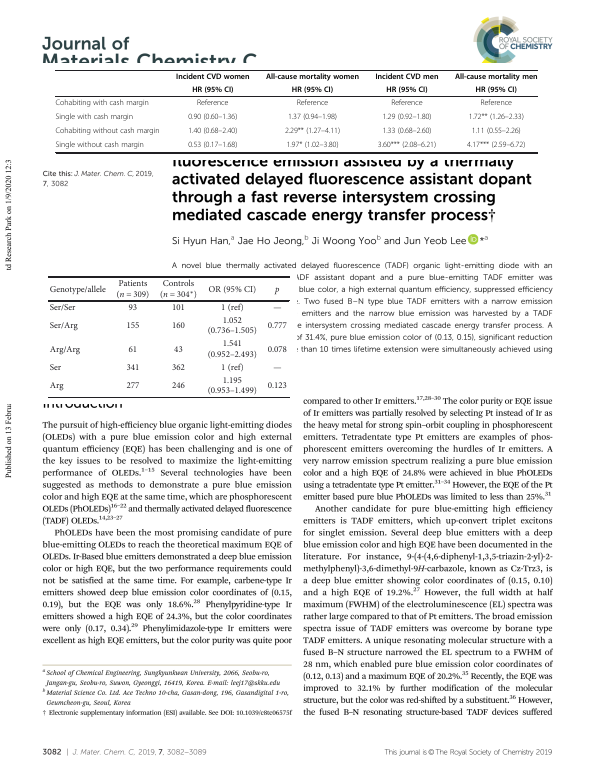borderless: (54, 68, 537, 152), (48, 275, 290, 398)
cell: (206, 316, 257, 337), (206, 339, 257, 360), (206, 376, 257, 397), (54, 126, 160, 136), (54, 98, 150, 108), (55, 140, 145, 150), (265, 72, 360, 81), (159, 279, 198, 300), (54, 112, 134, 122), (454, 72, 538, 81), (115, 279, 150, 300), (175, 72, 250, 81), (48, 284, 106, 295), (377, 140, 437, 150), (466, 140, 526, 150), (374, 72, 439, 81), (468, 112, 525, 122), (284, 126, 341, 136), (207, 284, 257, 295), (285, 140, 339, 150), (187, 112, 238, 122), (287, 112, 338, 122), (381, 112, 432, 122), (187, 126, 238, 136), (381, 126, 432, 136), (471, 126, 522, 136), (187, 140, 238, 150), (191, 85, 234, 95), (291, 85, 334, 95), (385, 85, 428, 95), (475, 85, 518, 95), (48, 344, 81, 355), (390, 98, 424, 108), (479, 98, 513, 108), (196, 98, 229, 108), (296, 98, 329, 108), (48, 321, 78, 331), (48, 303, 76, 313), (220, 303, 244, 313), (220, 363, 244, 373), (266, 344, 287, 355), (266, 381, 287, 392), (266, 321, 287, 331), (48, 381, 64, 392), (125, 381, 140, 392), (171, 381, 186, 392), (171, 303, 186, 313), (125, 321, 140, 331), (171, 321, 186, 331), (125, 363, 140, 373), (171, 363, 186, 373), (48, 363, 62, 373), (127, 344, 138, 355), (127, 303, 138, 313), (173, 344, 183, 355), (274, 286, 280, 295), (272, 307, 282, 311), (272, 367, 282, 371)
